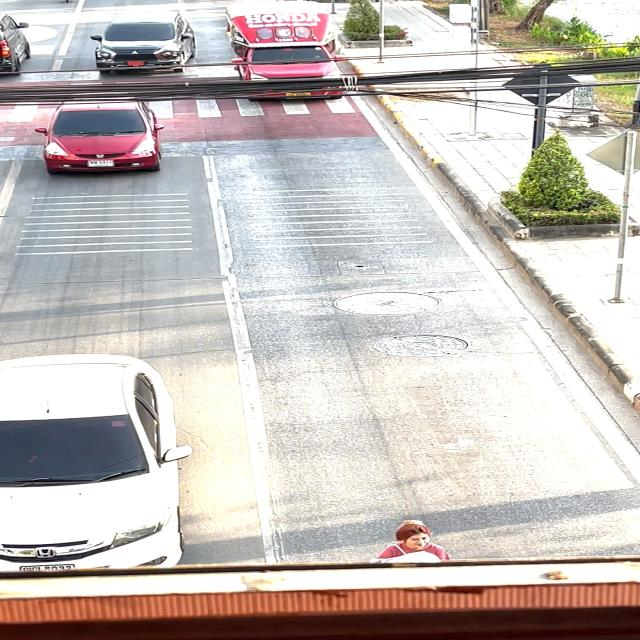car: (0, 344, 208, 578), (217, 4, 386, 102), (23, 100, 193, 182), (78, 5, 214, 81)
